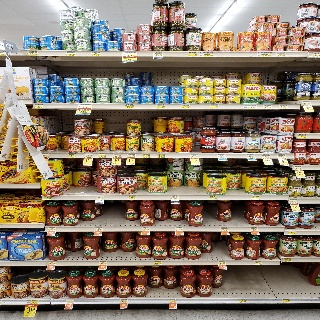All PRICE TAGS: (199, 52, 214, 57), (123, 52, 138, 56), (243, 105, 257, 109), (257, 52, 271, 56), (78, 104, 92, 108), (65, 51, 76, 56), (26, 300, 39, 304), (91, 51, 101, 56), (279, 104, 288, 109), (298, 134, 307, 139), (27, 51, 38, 55), (97, 153, 107, 157), (67, 153, 77, 157), (209, 104, 219, 108), (288, 230, 296, 235), (188, 52, 198, 56), (276, 52, 286, 56), (33, 104, 43, 108), (129, 195, 137, 200), (96, 195, 104, 200), (246, 154, 255, 158), (217, 154, 226, 158), (127, 153, 136, 157), (84, 153, 93, 157), (263, 105, 272, 109), (43, 196, 52, 200), (294, 166, 303, 170), (154, 52, 163, 56), (125, 104, 134, 108), (181, 105, 190, 109), (47, 227, 56, 231), (251, 196, 260, 200), (208, 195, 217, 199), (277, 154, 286, 158), (262, 154, 271, 158), (313, 52, 320, 57), (190, 153, 198, 157), (113, 153, 121, 157), (282, 299, 290, 303), (284, 258, 292, 262), (303, 101, 311, 105), (239, 299, 247, 303), (168, 299, 176, 303), (120, 299, 128, 303), (66, 300, 74, 304), (254, 261, 262, 265), (218, 261, 226, 265), (154, 261, 162, 265), (99, 261, 107, 265), (48, 261, 56, 265), (250, 227, 258, 231), (220, 227, 228, 231), (175, 227, 183, 231), (142, 227, 150, 231), (95, 227, 103, 231), (171, 195, 179, 199), (42, 153, 49, 157), (290, 199, 297, 203), (142, 154, 151, 157), (156, 105, 165, 108), (157, 154, 165, 157)
